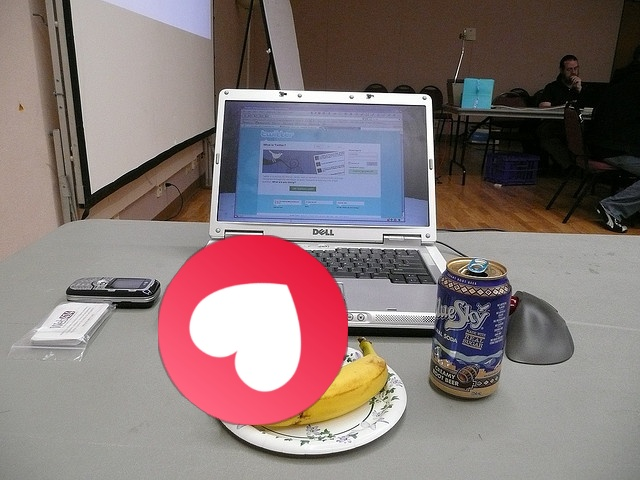love: (158, 235, 348, 425)
